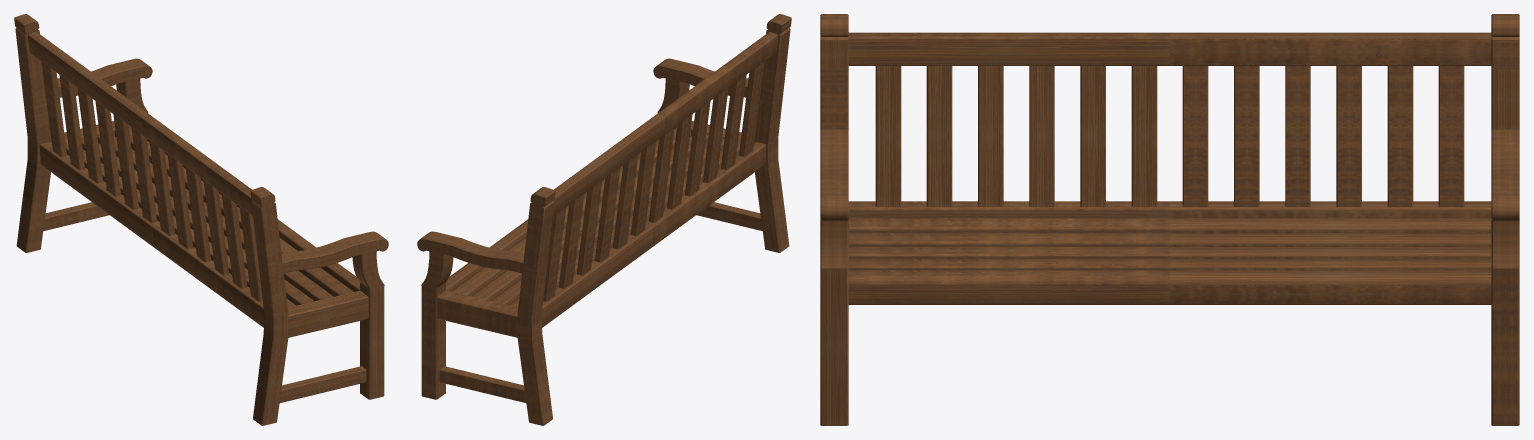
The model's file is SeatWooden.FBX.
The picture shows the model from 3 angles, left to right: view 1: azimuth 30°, elevation 25°; view 2: azimuth 150°, elevation 25°; view 3: azimuth 270°, elevation 25°; orthographic projection. The views are drawn at different scales.
Parts seen in each view (by area): view 1: bench_01; view 2: bench_01; view 3: bench_01.
Part boxes in pixels (x1,y1,x2,y2): bench_01: (14,14,388,425); bench_01: (417,14,791,425); bench_01: (820,14,1519,425).
Bounding box in the file's own units: 25.02 × 42.54 × 82.44.
1 material, 1 textured.
